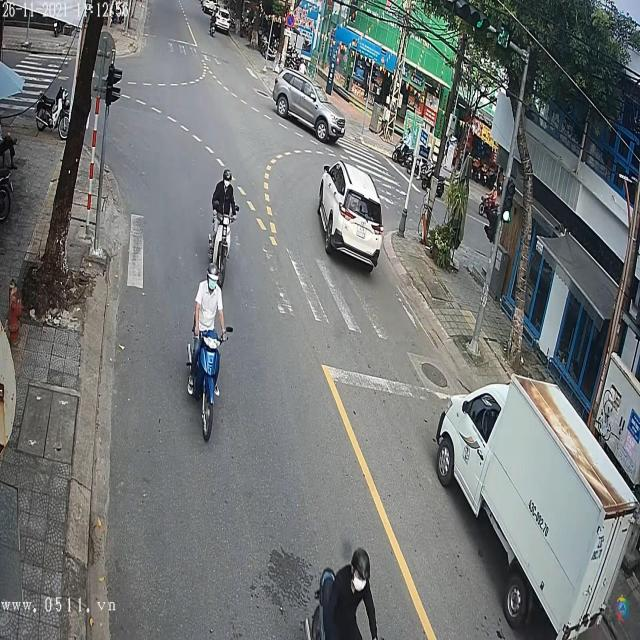car: (317, 163, 383, 274), (272, 70, 348, 144)
motorcycle: (186, 313, 233, 445), (207, 184, 240, 295)
truck: (436, 372, 640, 640)
